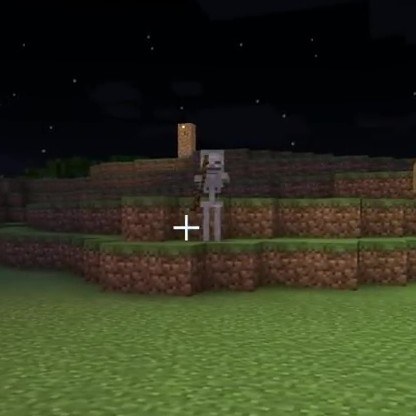skeleton: (196, 148, 226, 225)
